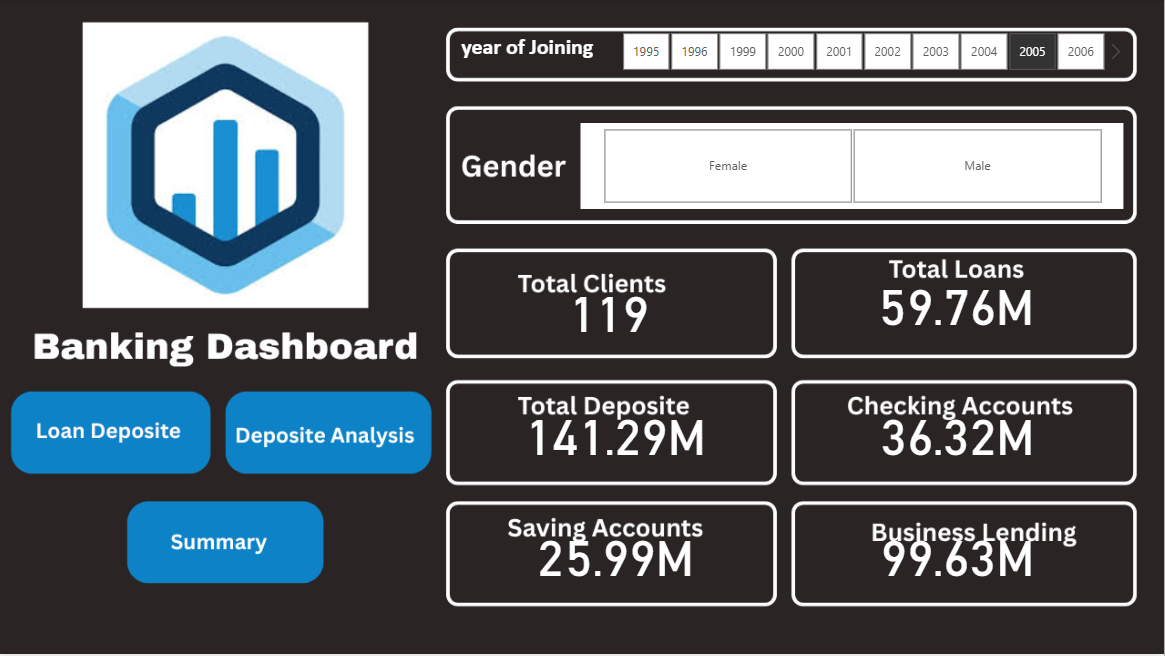

This screenshot's page, from the dashboard's own definition file:
{"tool":"powerbi","page":{"name":"Page 1","canvas":[1280,720],"ordinal":0},"visuals":[{"type":"card","fields":{"Values":["CountNonNull(Query1.Name)"]},"box":[490,285,361.7,111.7],"z":0},{"type":"slicer","fields":{"Values":["Query1.GenderId"]},"box":[640,137.1,595.7,94.3],"z":1000},{"type":"card","fields":{"Values":["Sum(Query1.Bank Loans)"]},"box":[866.7,271.7,368.3,123.3],"z":2000},{"type":"card","fields":{"Values":["Sum(Query1.Business Lending)"]},"box":[866.7,556.7,371.7,103.3],"z":3000},{"type":"card","fields":{"Values":["Sum(Query1.Saving Accounts)"]},"box":[503.3,556.7,348.3,103.3],"z":4000},{"type":"card","fields":{"Values":["Query1.Total Deposite"]},"box":[503.3,428.3,348.3,95],"z":5000},{"type":"card","fields":{"Values":["Sum(Query1.Checking Accounts)"]},"box":[866.7,428.3,371.7,95],"z":6000},{"type":"slicer","fields":{"Values":["Banking.Year Of Joining"]},"box":[659.4,31.2,578.1,54.4],"z":7000},{"type":"textbox","box":[503.8,32.5,170,52.5],"z":8000}]}

Visuals, with their boxes in screenshot pixels (x1, y1, x2, y2), scaled from the page's 1280x720 canvas onto the 1165x656 screenshot:
card - CountNonNull(Query1.Name): <box>446,260,775,361</box>
slicer - Query1.GenderId: <box>582,125,1125,211</box>
card - Sum(Query1.Bank Loans): <box>789,248,1124,360</box>
card - Sum(Query1.Business Lending): <box>789,507,1127,601</box>
card - Sum(Query1.Saving Accounts): <box>458,507,775,601</box>
card - Query1.Total Deposite: <box>458,390,775,477</box>
card - Sum(Query1.Checking Accounts): <box>789,390,1127,477</box>
slicer - Banking.Year Of Joining: <box>600,28,1126,78</box>
textbox: <box>459,30,613,77</box>
